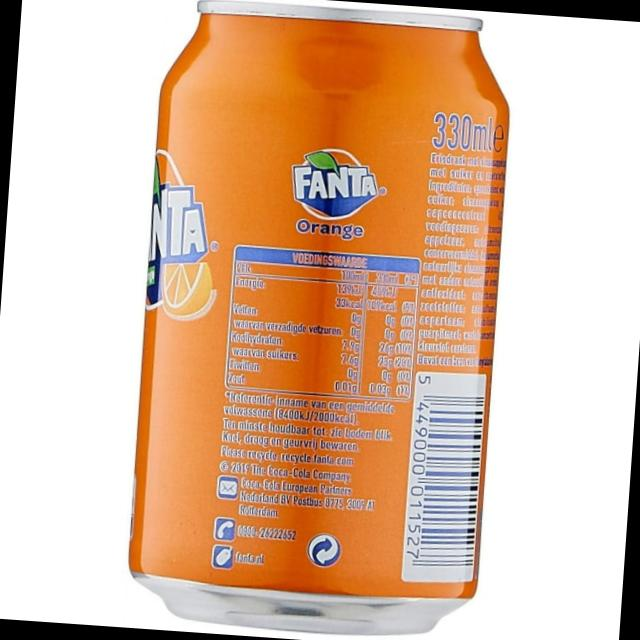fanta: (124, 0, 522, 639)
